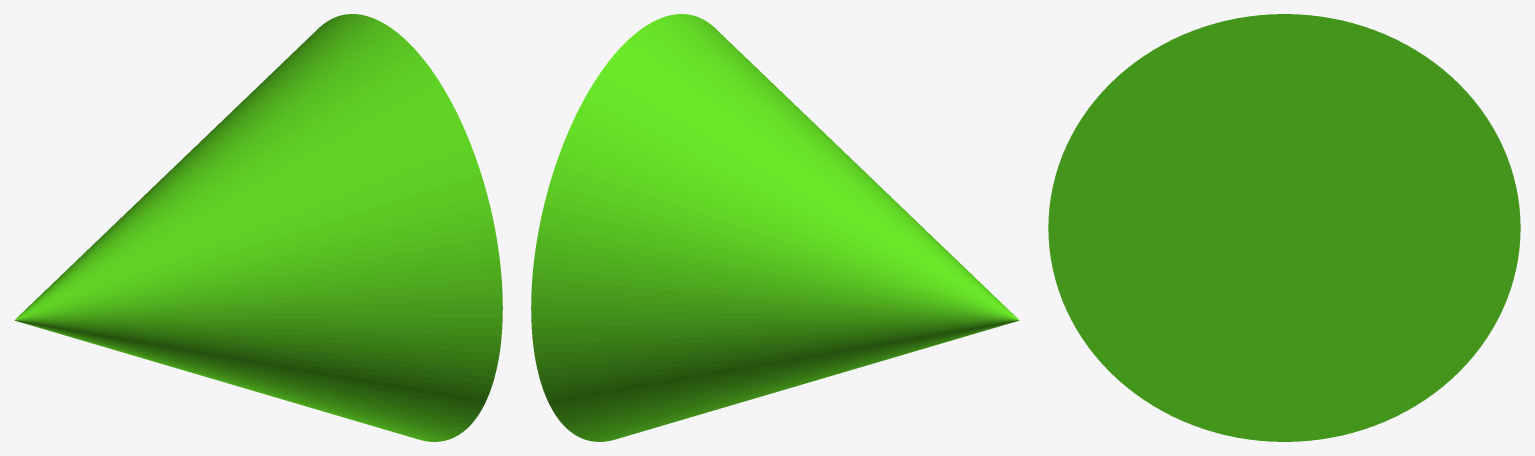
3 renders of one model, left to right at view 1: azimuth 30°, elevation 25°; view 2: azimuth 150°, elevation 25°; view 3: azimuth 270°, elevation 25°, orthographic. The views are drawn at different scales.
Visible parts, largest first — view 1: Cone; view 2: Cone; view 3: Cone.
Part boxes in pixels (x1,y1,x2,y2): Cone: [14, 14, 502, 441]; Cone: [531, 14, 1019, 441]; Cone: [1048, 14, 1520, 441].
Size of the model in its own units: 0.1 by 0.1 by 0.1.
